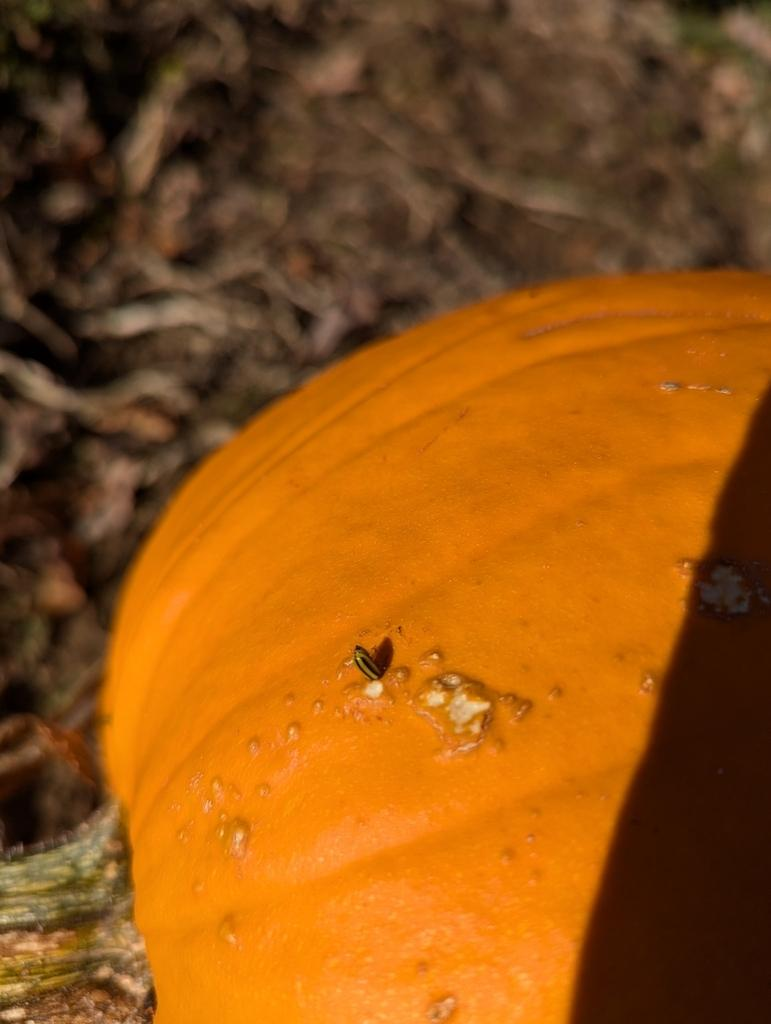potato_beetle: (333, 636, 394, 687)
